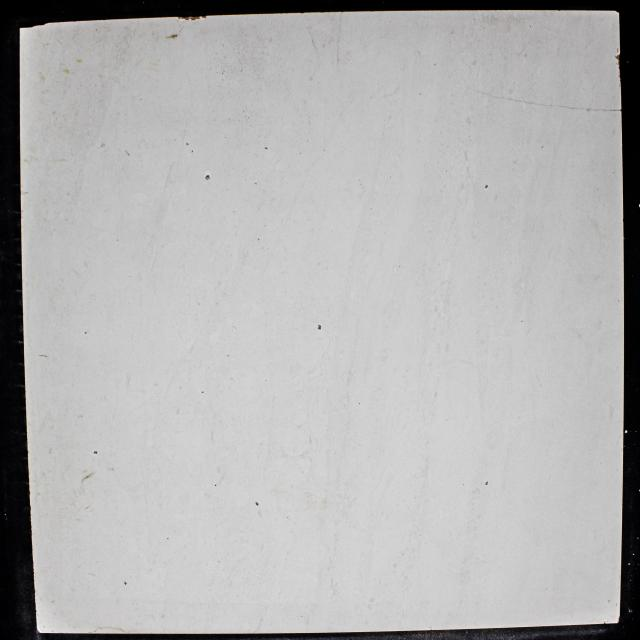edge-chipping: (20, 22, 45, 29), (177, 15, 206, 21), (615, 52, 620, 62)
hole: (205, 174, 211, 180), (317, 324, 322, 330), (484, 183, 489, 189), (94, 450, 98, 455), (484, 481, 488, 486), (255, 502, 259, 506), (264, 147, 269, 150), (124, 581, 127, 585), (186, 143, 189, 146), (201, 391, 204, 394), (84, 332, 88, 334), (214, 484, 217, 486), (258, 238, 260, 240), (167, 538, 169, 540), (227, 354, 229, 356), (358, 403, 361, 404), (265, 380, 267, 381)
line: (470, 88, 620, 113)
